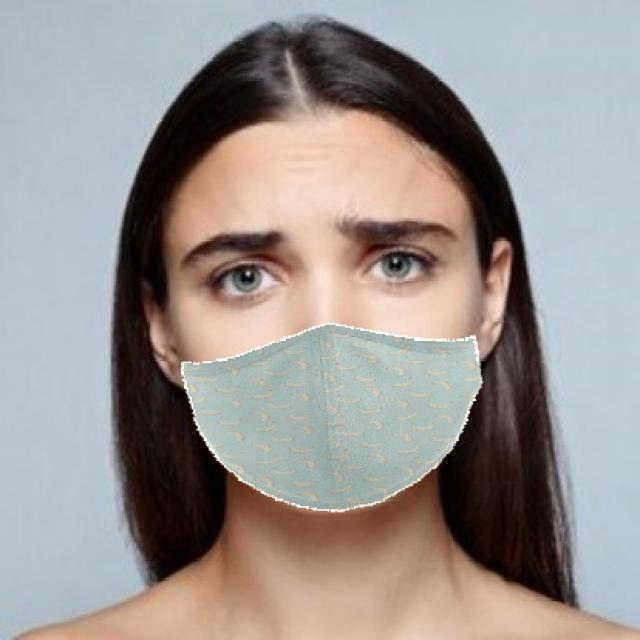mask: (118, 308, 546, 511)
